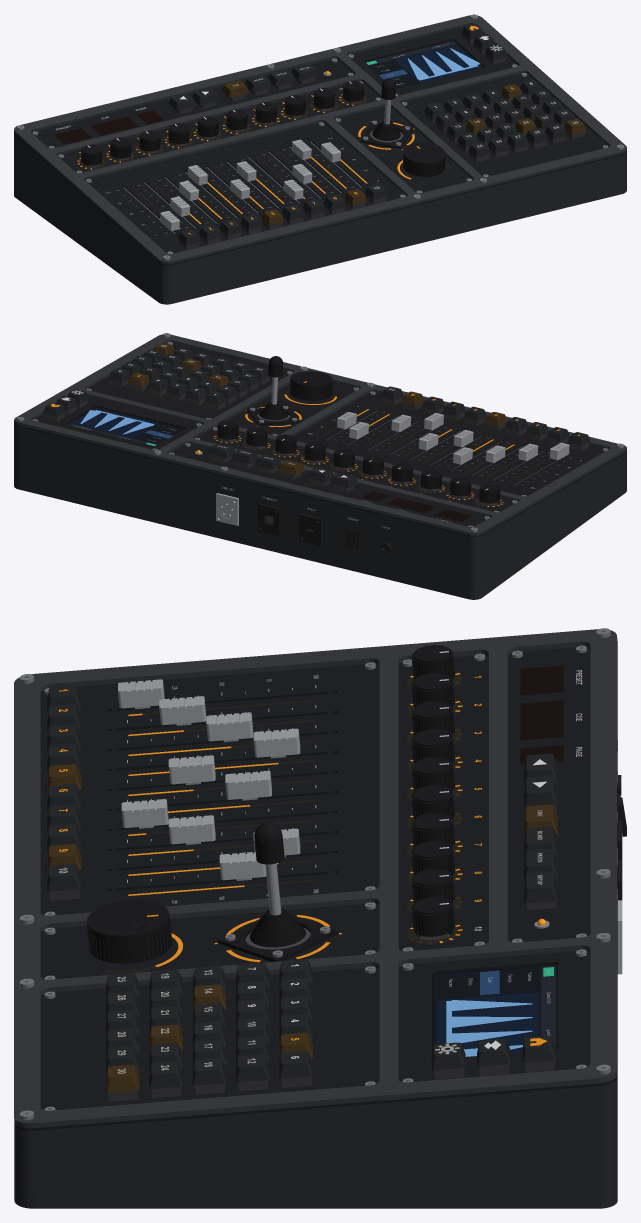
The model's file is boxole.glb.
The picture shows the model from 3 angles, top to bottom: view 1: azimuth 30°, elevation 25°; view 2: azimuth 150°, elevation 25°; view 3: azimuth 270°, elevation 25°; orthographic projection. The views are drawn at different scales.
Parts seen in each view (by area): view 1: enclosure_0 (×2), enclosure_1, controls_6, controls_16, controls_4, fixed_5, controls_8, accent_20, fixed_33, fixed_25, fixed_12, fixed_29 (+8 smaller); view 2: enclosure_0 (×2), enclosure_1, controls_6, controls_16, fixed_5, controls_4, fixed_1 (×2), controls_8, fixed_4 (×2), accent_20, fixed_33, fixed_25 (+6 smaller); view 3: enclosure_0 (×2), enclosure_1, controls_6, controls_16, controls_4, controls_8, fixed_25, fixed_33, fixed_5, fixed_12, fixed_29, fixed_2 (+7 smaller).
Part boxes in pixels (x1=…): enclosure_0 (×2): x1=14, y1=26, x2=626, y2=304; enclosure_1: x1=14, y1=15, x2=626, y2=264; controls_6: x1=168, y1=23, x2=574, y2=245; controls_16: x1=81, y1=78, x2=445, y2=177; controls_4: x1=160, y1=139, x2=340, y2=231; fixed_5: x1=172, y1=34, x2=585, y2=249; controls_8: x1=221, y1=80, x2=586, y2=225; accent_20: x1=77, y1=94, x2=367, y2=169; fixed_33: x1=395, y1=45, x2=481, y2=82; fixed_25: x1=54, y1=110, x2=163, y2=144; fixed_12: x1=17, y1=14, x2=624, y2=260; fixed_29: x1=368, y1=44, x2=483, y2=88; enclosure_0 (×2): x1=14, y1=343, x2=626, y2=599; enclosure_1: x1=14, y1=334, x2=626, y2=535; controls_6: x1=43, y1=347, x2=590, y2=488; controls_16: x1=217, y1=356, x2=500, y2=503; fixed_5: x1=44, y1=354, x2=589, y2=492; controls_4: x1=337, y1=412, x2=569, y2=464; fixed_1 (×2): x1=257, y1=410, x2=555, y2=553; controls_8: x1=128, y1=343, x2=506, y2=475; fixed_4 (×2): x1=216, y1=413, x2=497, y2=525; accent_20: x1=213, y1=435, x2=503, y2=507; fixed_33: x1=72, y1=408, x2=158, y2=437; fixed_25: x1=362, y1=491, x2=471, y2=521; enclosure_0 (×2): x1=14, y1=641, x2=617, y2=1208; enclosure_1: x1=14, y1=629, x2=617, y2=1128; controls_6: x1=47, y1=684, x2=557, y2=1088; controls_16: x1=86, y1=645, x2=454, y2=963; controls_4: x1=118, y1=679, x2=300, y2=880; controls_8: x1=47, y1=764, x2=557, y2=1092; fixed_25: x1=520, y1=665, x2=563, y2=764; fixed_33: x1=437, y1=992, x2=538, y2=1053; fixed_5: x1=50, y1=709, x2=556, y2=1101; fixed_12: x1=19, y1=628, x2=610, y2=1120; fixed_29: x1=434, y1=966, x2=541, y2=1044; fixed_2: x1=127, y1=700, x2=315, y2=896.
Size of the model in its own units: 5.62 by 1.29 by 3.24.
